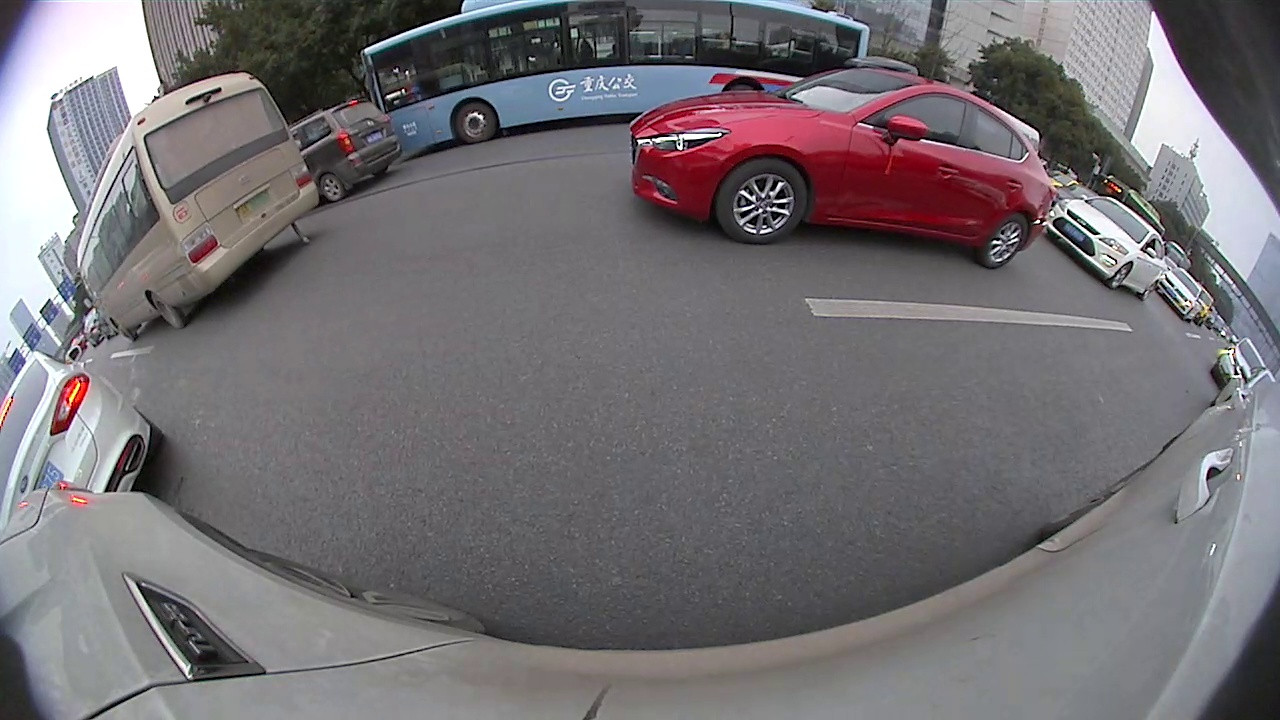bus: (363, 2, 866, 157), (77, 73, 319, 339)
car: (629, 68, 1056, 268), (2, 353, 167, 531), (1049, 198, 1165, 301), (293, 98, 399, 199)
front: (715, 158, 808, 243), (453, 101, 496, 144), (1113, 261, 1136, 287), (113, 321, 135, 345)
rear: (984, 212, 1029, 270), (321, 172, 345, 201)
